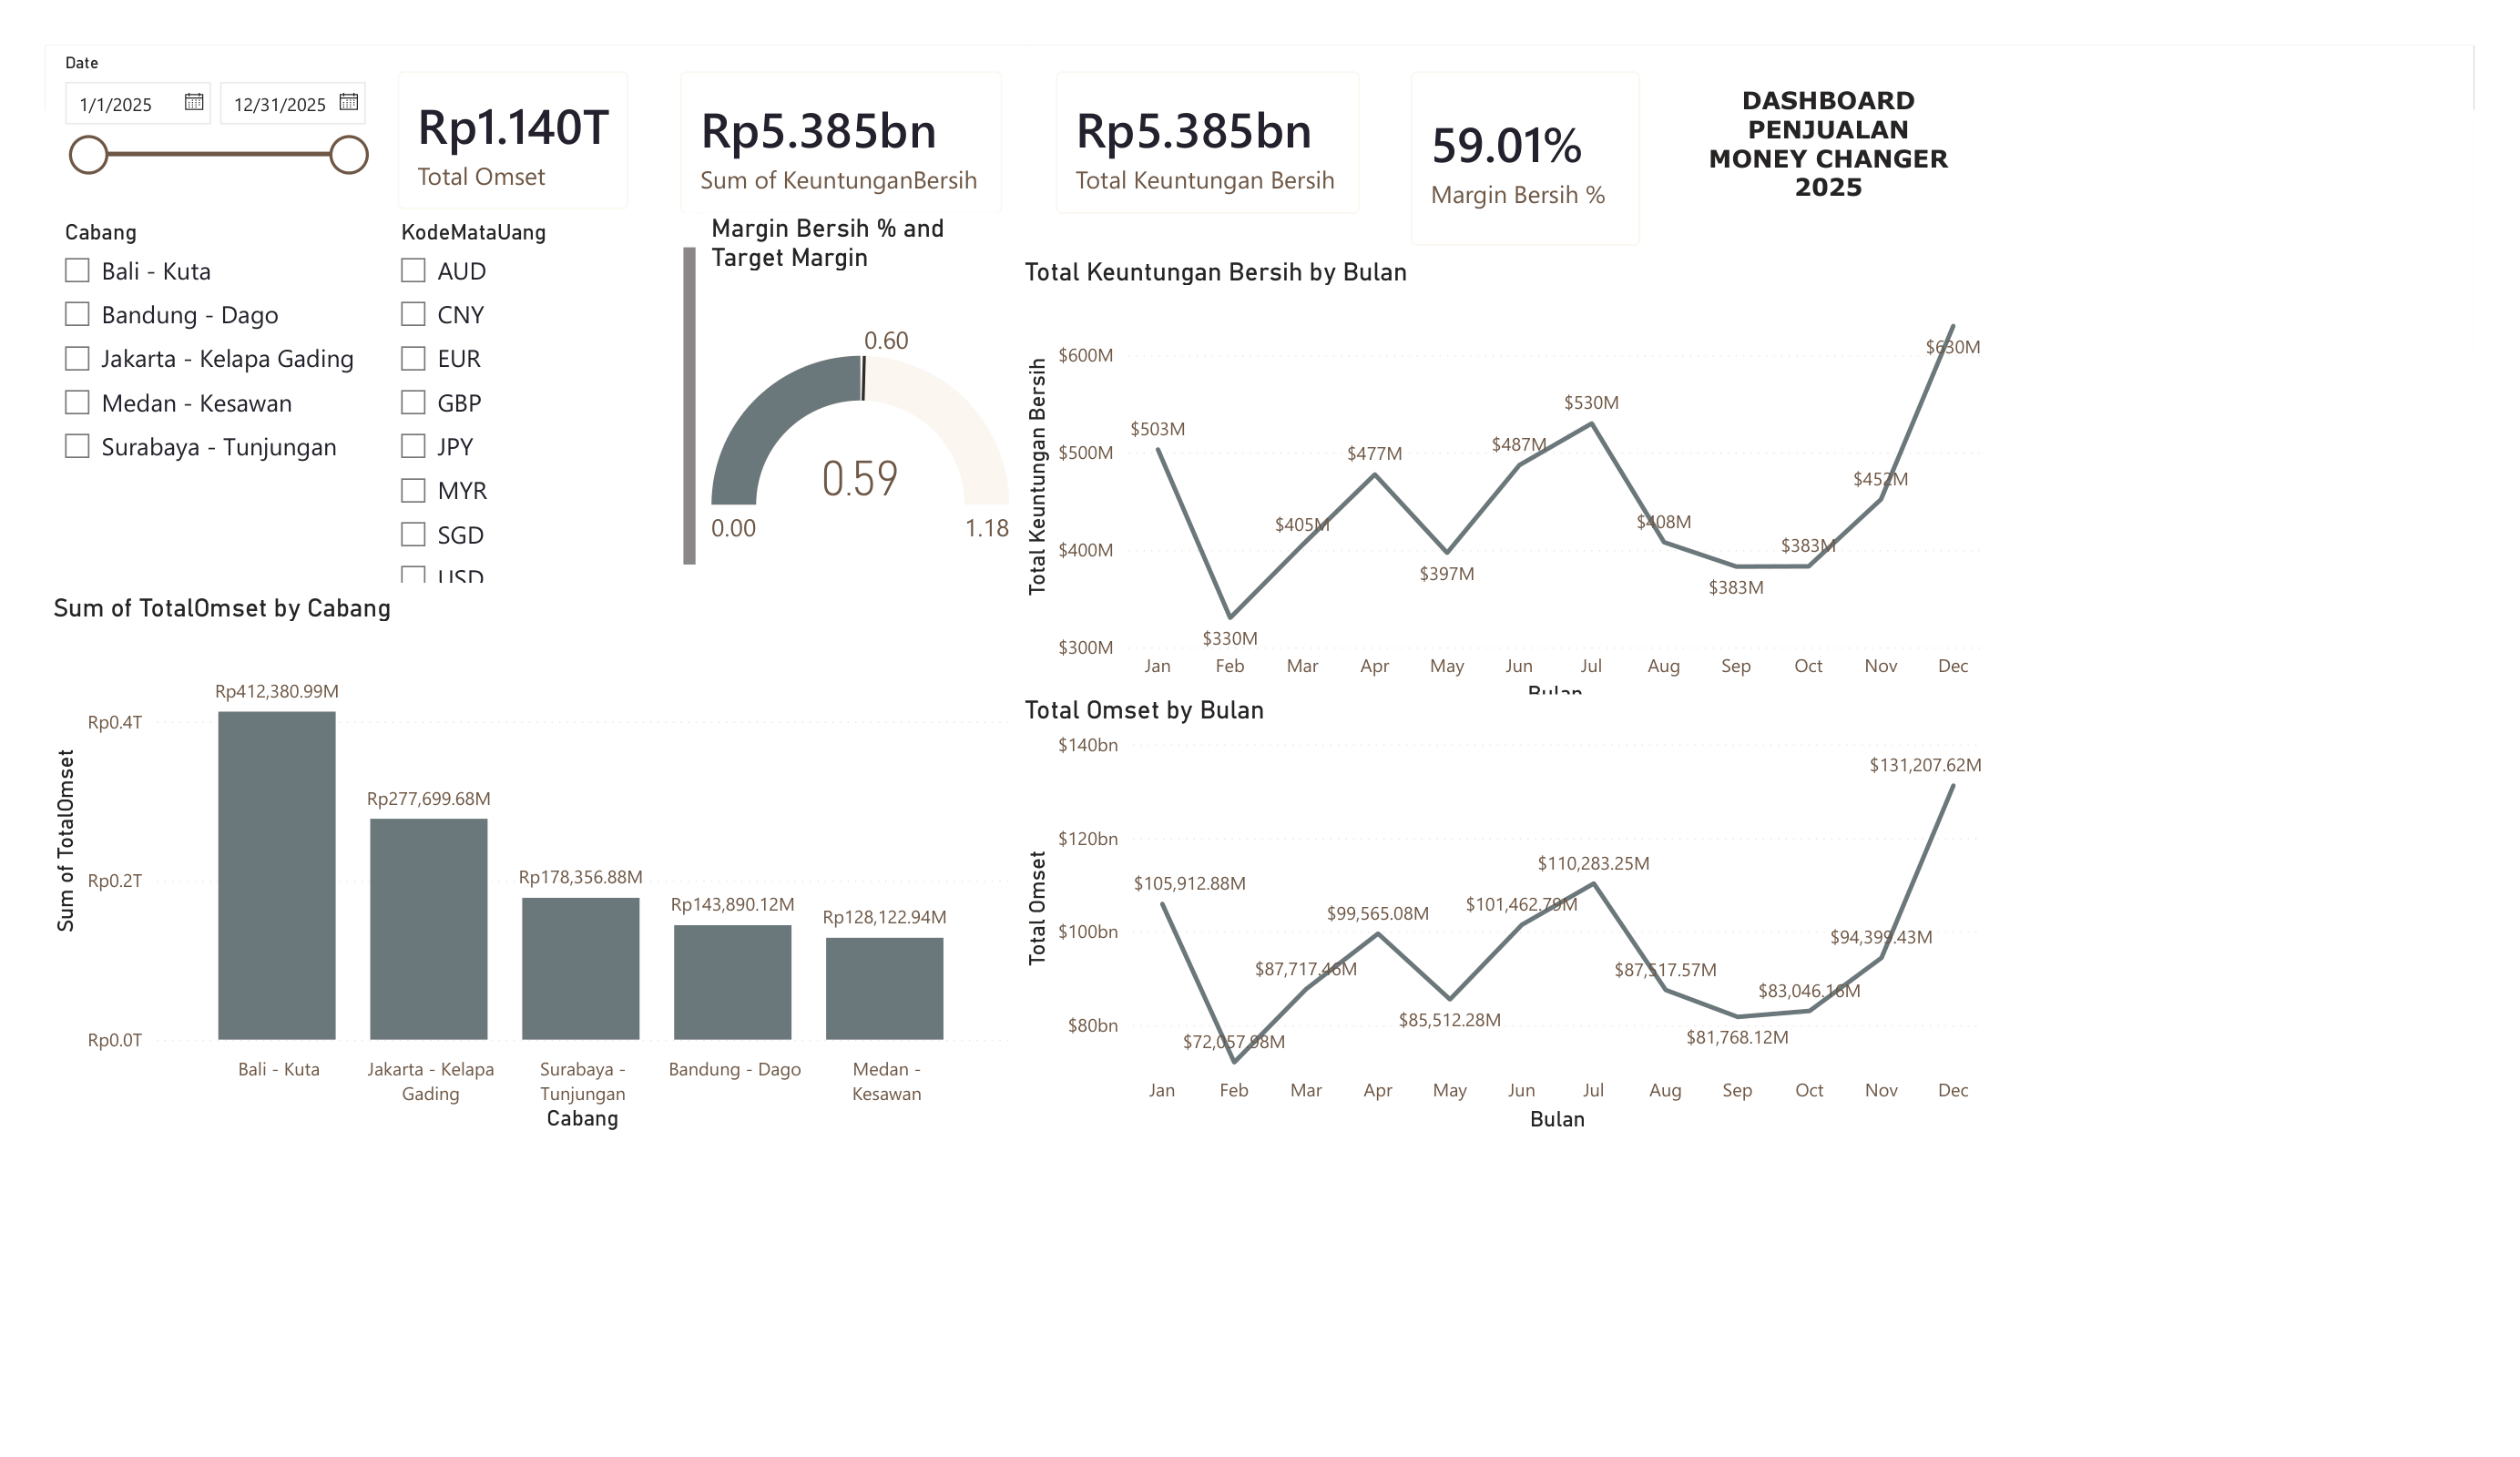

This screenshot's page, from the dashboard's own definition file:
{"tool":"powerbi","page":{"name":"Hal 1","canvas":[1280,720],"ordinal":0},"visuals":[{"type":"cardVisual","fields":{"Data":["TransaksiHarian.Total Omset"]},"box":[215.1,0,186.7,125.5],"z":0},{"type":"cardVisual","fields":{"Data":["Sum(TransaksiHarian.KeuntunganBersih)"]},"box":[401.9,0,246.5,128.5],"z":1000},{"type":"cardVisual","fields":{"Data":["TransaksiHarian.Total Keuntungan Bersih"]},"box":[648.4,0,234.5,128.5],"z":2000},{"type":"cardVisual","fields":{"Data":["TransaksiHarian.Margin Bersih %"]},"box":[882.9,0,185.3,149.5],"z":3000},{"type":"clusteredColumnChart","fields":{"Category":["DataCabang.Cabang"],"Y":["Sum(TransaksiHarian.TotalOmset)"]},"box":[0,360,639.4,360],"z":4000},{"type":"lineChart","fields":{"Y":["TransaksiHarian.Total Keuntungan Bersih"],"Category":["Kalender.Bulan"]},"box":[639.4,138.9,640.9,301.8],"z":5000},{"type":"lineChart","fields":{"Y":["TransaksiHarian.Total Omset"],"Category":["Kalender.Bulan"]},"box":[639.4,427.3,640.9,292.8],"z":6000},{"type":"slicer","fields":{"Values":["DataCabang.Cabang"]},"box":[0,110.6,215.1,192.7],"z":7000},{"type":"slicer","fields":{"Values":["DataMataUang.KodeMataUang"]},"box":[221.1,110.6,212.1,249.5],"z":8000},{"type":"slicer","fields":{"Values":["Kalender.Date"]},"box":[0,0,221.1,110.6],"z":9000},{"type":"gauge","fields":{"Y":["TransaksiHarian.Margin Bersih %"],"TargetValue":["TransaksiHarian.Target Margin"]},"box":[433.2,110.6,206.2,249.5],"z":10000},{"type":"textbox","box":[1068.2,21.8,211.8,88.8],"z":11000}]}

Visuals, with their boxes on the page's 1280x720 design canvas (x1, y1, x2, y2). These are canvas units, not pixel positions in the 2520x1457 screenshot, which may show the page scaled, cropped or inside an application window:
cardVisual - TransaksiHarian.Total Omset: bbox=[215, 0, 402, 126]
cardVisual - Sum(TransaksiHarian.KeuntunganBersih): bbox=[402, 0, 648, 128]
cardVisual - TransaksiHarian.Total Keuntungan Bersih: bbox=[648, 0, 883, 128]
cardVisual - TransaksiHarian.Margin Bersih %: bbox=[883, 0, 1068, 150]
clusteredColumnChart - DataCabang.Cabang x Sum(TransaksiHarian.TotalOmset): bbox=[0, 360, 639, 720]
lineChart - TransaksiHarian.Total Keuntungan Bersih x Kalender.Bulan: bbox=[639, 139, 1280, 441]
lineChart - TransaksiHarian.Total Omset x Kalender.Bulan: bbox=[639, 427, 1280, 720]
slicer - DataCabang.Cabang: bbox=[0, 111, 215, 303]
slicer - DataMataUang.KodeMataUang: bbox=[221, 111, 433, 360]
slicer - Kalender.Date: bbox=[0, 0, 221, 111]
gauge - TransaksiHarian.Margin Bersih % x TransaksiHarian.Target Margin: bbox=[433, 111, 639, 360]
textbox: bbox=[1068, 22, 1280, 111]
